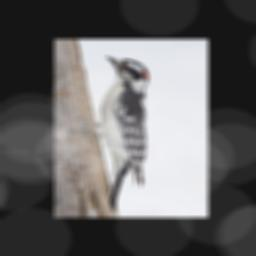Woodpecker: (68, 54, 151, 214)
